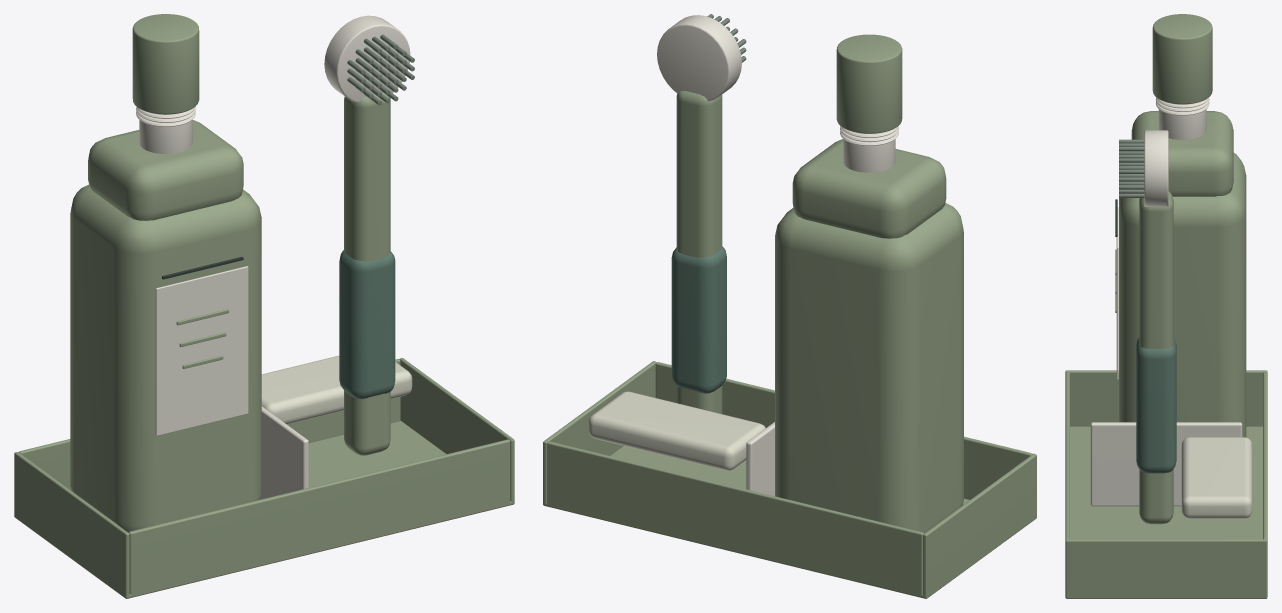
Rendered from hard-water.glb.
The picture shows the model from 3 angles, left to right: view 1: azimuth 30°, elevation 25°; view 2: azimuth 150°, elevation 25°; view 3: azimuth 270°, elevation 25°; orthographic projection. The views are drawn at different scales.
Parts seen in each view (by area): view 1: Task bottle molded body, Removable docking tray front, Task bottle task label, Task bottle shoulder, Task brush handle, Removable docking tray left, Task brush soft grip, Task bottle closure, Removable docking tray right, Separated textile, Removable docking tray floor, Task brush head (+3 smaller); view 2: Task bottle molded body, Removable docking tray back, Task bottle shoulder, Task brush handle, Separated textile, Removable docking tray left, Task brush soft grip, Task bottle closure, Task brush head, Removable docking tray front, Removable docking tray right, Removable docking tray floor (+2 smaller); view 3: Task bottle molded body, Removable docking tray right, Removable docking tray floor, Task brush handle, Separated textile, Wet dry divider, Task bottle closure, Task brush soft grip, Task bottle shoulder, Removable docking tray left, Task brush head, Task bottle neck (+3 smaller).
Part boxes in pixels (left/top/right/bottom): Task bottle molded body: left=70, top=184, right=261, bottom=532; Removable docking tray front: left=128, top=439, right=510, bottom=597; Task bottle task label: left=155, top=266, right=248, bottom=435; Task bottle shoulder: left=88, top=120, right=243, bottom=220; Task brush handle: left=344, top=92, right=390, bottom=455; Removable docking tray left: left=14, top=452, right=129, bottom=598; Task brush soft grip: left=339, top=250, right=395, bottom=398; Task bottle closure: left=132, top=14, right=199, bottom=114; Removable docking tray right: left=399, top=358, right=514, bottom=503; Separated textile: left=261, top=355, right=412, bottom=424; Removable docking tray floor: left=125, top=420, right=514, bottom=598; Task brush head: left=324, top=15, right=410, bottom=102; Task bottle molded body: left=775, top=203, right=963, bottom=533; Removable docking tray back: left=547, top=441, right=923, bottom=597; Task bottle shoulder: left=792, top=139, right=946, bottom=238; Task brush handle: left=676, top=91, right=722, bottom=413; Separated textile: left=588, top=391, right=765, bottom=470; Removable docking tray left: left=923, top=453, right=1036, bottom=598; Task brush soft grip: left=671, top=246, right=726, bottom=393; Task bottle closure: left=836, top=34, right=902, bottom=133; Task brush head: left=657, top=15, right=741, bottom=101; Removable docking tray front: left=655, top=362, right=1032, bottom=499; Removable docking tray right: left=543, top=361, right=656, bottom=505; Removable docking tray floor: left=543, top=446, right=1010, bottom=598; Task bottle molded body: left=1119, top=153, right=1246, bottom=437; Removable docking tray right: left=1065, top=539, right=1267, bottom=598; Removable docking tray floor: left=1065, top=426, right=1266, bottom=598; Task brush handle: left=1139, top=191, right=1173, bottom=524; Separated textile: left=1181, top=437, right=1252, bottom=518; Wet dry divider: left=1090, top=422, right=1242, bottom=506; Task bottle closure: left=1152, top=14, right=1212, bottom=104; Task brush soft grip: left=1136, top=338, right=1176, bottom=473; Task bottle shoulder: left=1131, top=111, right=1233, bottom=196; Removable docking tray left: left=1065, top=370, right=1267, bottom=426; Task brush head: left=1144, top=130, right=1168, bottom=206; Task bottle neck: left=1158, top=103, right=1206, bottom=139.
Size of the model in its own units: 0.2 by 0.245 by 0.1.
